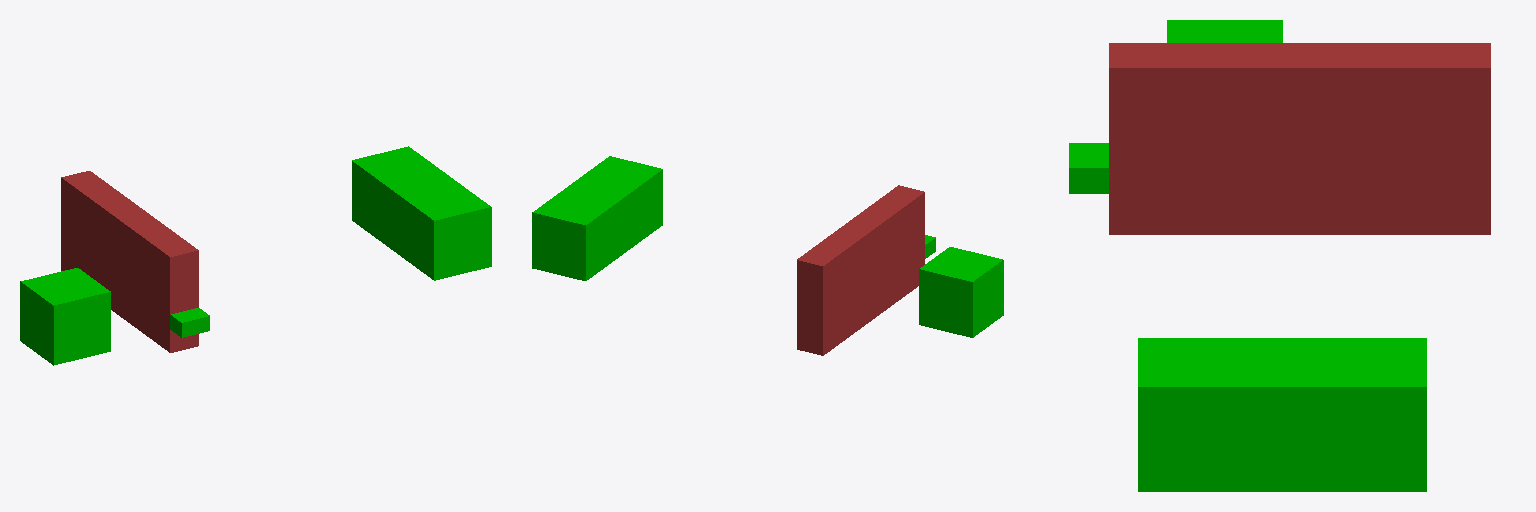
The robot description file, URDF, robot "maze2":
<?xml version="1.0"?>
  <robot name="maze2">
    <link name="base_link"/>

    <link name="table">
      <visual>
        <geometry>
          <mesh filename="file://[local-path]/Desktop/blenderFLEX/sequence_table.dae" scale = " 0.750 0.750 0.750"/>
        </geometry>
        <origin rpy="0 0 0" xyz="0 0 0" />

<material name = "">
          <color rgba="0.87450980392 0.87450980392 0.87058823529 1.0"/>
      </material>

      </visual>
      <collision>
        <geometry>
          <mesh filename="file://[local-path]/Desktop/blenderFLEX/sequence_table.dae" scale = " 0.750 0.750 0.750"/>
        </geometry>
        <origin rpy="0 0 0" xyz="0 0 0" />       
       </collision>
    </link>

    <link name="cube1">
      <visual>
        <geometry>
          <box size="0.1 0.1 0.1"/>
        </geometry>
        <origin rpy="0 0 0" xyz="0 0 0" />
      <material name = "">
          <color rgba="0.0 0.8 0.0 1.0"/>
      </material>
      </visual>
      <collision>
        <geometry>
          <box size="0.1 0.1 0.1"/>
        </geometry>
        <origin rpy="0 0 0" xyz="0 0 0" />       
       </collision>
    </link>


<link name ="cube_x"/>


     <link name="door1">
      <visual>
        <geometry>
          <box size="0.05 0.33 0.16"/>
        </geometry>
        <origin rpy="0 0 0" xyz="0.0 0.0 0" />
        <material name = "">
          <color rgba="0.6901 0.2509 0.2509 1.0"/>
      </material>
      </visual>
      <collision>
        <geometry>
          <box size="0.05 0.33 0.16"/>
        </geometry>
        <origin rpy="0 0 0" xyz="0.0 0.0 0" />
       </collision>
    </link>

     <link name="door2">
      <visual>
      <origin rpy="0 0 0" xyz="0 0 0" />
        <geometry>
          <box size="0.05 0.035 0.025"/>
        </geometry>
             <material name = "">
          <color rgba="0.0 0.8 0.0 1.0"/>
      </material>
      </visual>
    </link>


    <link name="obs">
      <visual>
        <geometry>
          <box size="0.1 0.25 0.1"/>
        </geometry>
        <origin rpy="0 0 0" xyz="0 0 0" />
      <material name = "">
          <color rgba="0.0 0.8 0.0 1.0"/>
      </material>
      </visual>
      <collision>
        <geometry>
          <box size="0.1 0.25 0.1"/>
        </geometry>
        <origin rpy="0 0 0" xyz="0 0 0" />
      </collision>
    </link>

<link name ="obs_x"/>


<joint name="table_j" type="fixed">
    <origin rpy="0 0 0" xyz="0.9 -0.4 0.73" />
    <parent link="base_link" />
    <child link="table" />
    <axis xyz="0 1 0" />
  </joint>



<joint name="cube_joint" type="prismatic">
    <origin rpy="0 0 0" xyz="0.30 -0.8 0.86" />
    <parent link="base_link" />
    <child link="cube_x" />
   <axis xyz="1 0 0" />
  <limit lower="-0.1" upper="0.85" effort="0.05" velocity="1.57"/>
  </joint>


<joint name="cube_joint2" type="prismatic">
    <origin rpy="0 0 0" xyz="0.0 0 0.0" />
    <parent link="cube_x" />
    <child link="cube1" />
   <axis xyz="0 1 0" />
  <limit lower="0.0" upper="1.0" effort="0.05" velocity="1.57"/>
  </joint>


    <joint name="door_joint1" type="prismatic">
        <origin rpy="0 0 0" xyz="0.45 -0.735 0.89"/>
        <parent link="base_link"/>
        <child link="door1"/>
        <axis xyz="1 0 0"/>
        <limit lower="-0.25" upper="0.5" effort="5" velocity="1.57"/>
    </joint>

 <joint name="door_joint2" type="fixed">
        <origin rpy="0 0 0" xyz="0.0 -0.182 -0.028"/>
        <parent link="door1"/>
        <child link="door2"/>
    </joint>



<joint name="obs_joint" type="prismatic">
    <origin rpy="0 0 0" xyz="0.95 -0.75 0.86" />
    <parent link="base_link" />
    <child link="obs_x" />
   <axis xyz="1 0 0" />
  <limit lower="-0.50" upper="0.50" effort="0.05" velocity="1.57"/>
  </joint>


<joint name="obs_joint2" type="prismatic">
    <origin rpy="0 0 0" xyz="0.0 0 0.0" />
    <parent link="obs_x" />
    <child link="obs" />
   <axis xyz="0 1 0" />
  <limit lower="-0.1" upper="0.82" effort="0.05" velocity="1.57"/>
  </joint>


</robot>

--- Render facts (derived) ---
3 views of the same robot in one strip: view 1: azimuth 30°, elevation 25°; view 2: azimuth 150°, elevation 25°; view 3: azimuth 270°, elevation 25° (orthographic).
Robot: maze2 — 8 links, 7 joints (5 prismatic, 2 fixed); root link base_link; default pose: every joint at zero.
Links seen in each view (by area): view 1: door1, obs, cube1, door2; view 2: door1, obs, cube1; view 3: door1, obs, cube1, door2.
Boxes of the visible links, x1=… form: door1: x1=61, y1=171, x2=198, y2=352; obs: x1=352, y1=146, x2=491, y2=280; cube1: x1=20, y1=268, x2=110, y2=365; door2: x1=170, y1=308, x2=209, y2=337; door1: x1=797, y1=185, x2=924, y2=355; obs: x1=532, y1=156, x2=662, y2=280; cube1: x1=919, y1=247, x2=1003, y2=337; door1: x1=1109, y1=43, x2=1490, y2=234; obs: x1=1138, y1=338, x2=1426, y2=491; cube1: x1=1167, y1=20, x2=1282, y2=42; door2: x1=1069, y1=143, x2=1109, y2=193.
Size in the robot's own frame: 0.75 by 0.3645 by 0.16 metres.
Geometry: only primitive shapes (box / cylinder / sphere) drawn; not drawn: 1 mesh visual (reference in a form the renderer does not follow).